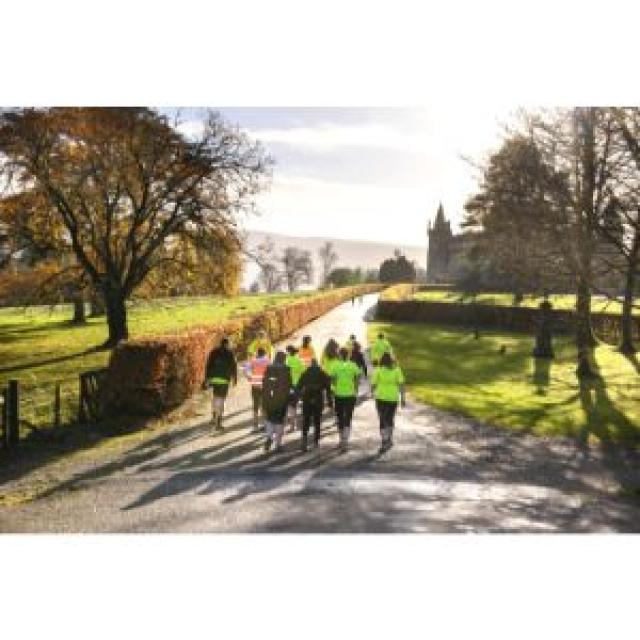nonfall: (181, 324, 244, 438), (367, 358, 412, 454), (329, 353, 365, 456), (249, 356, 291, 441), (297, 349, 322, 453)
